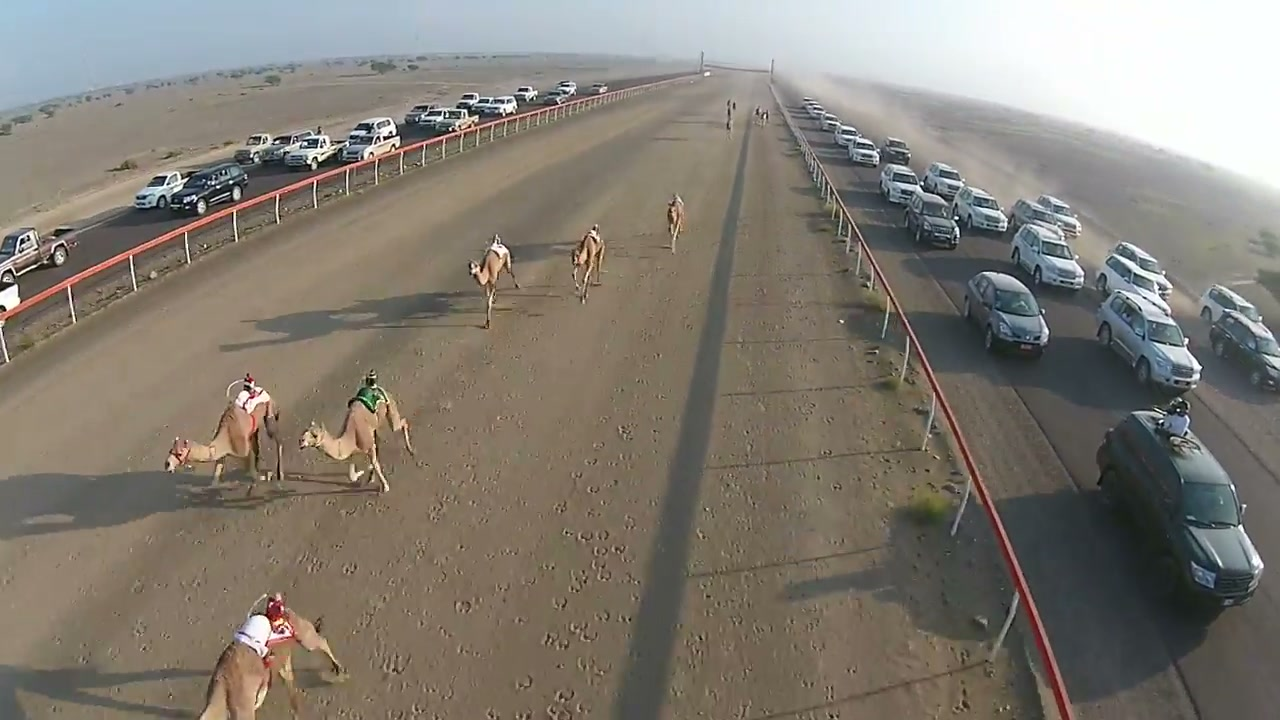animal_footprint: (317, 433, 493, 719), (537, 360, 657, 719)
